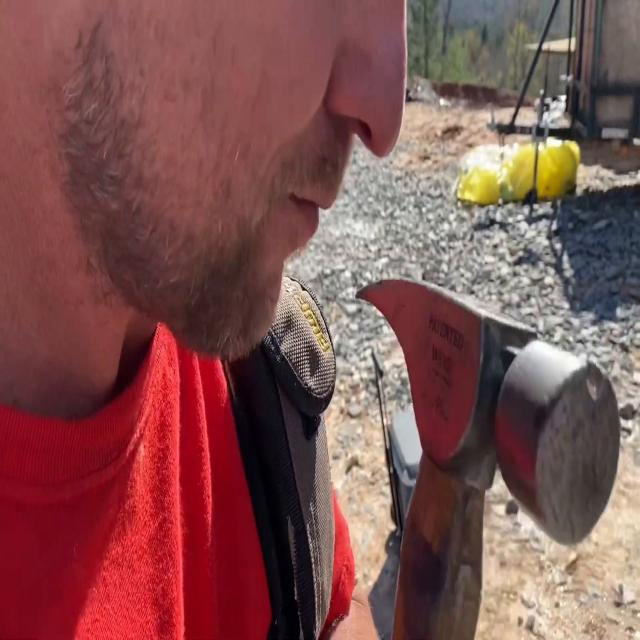hammer: (353, 274, 623, 640)
